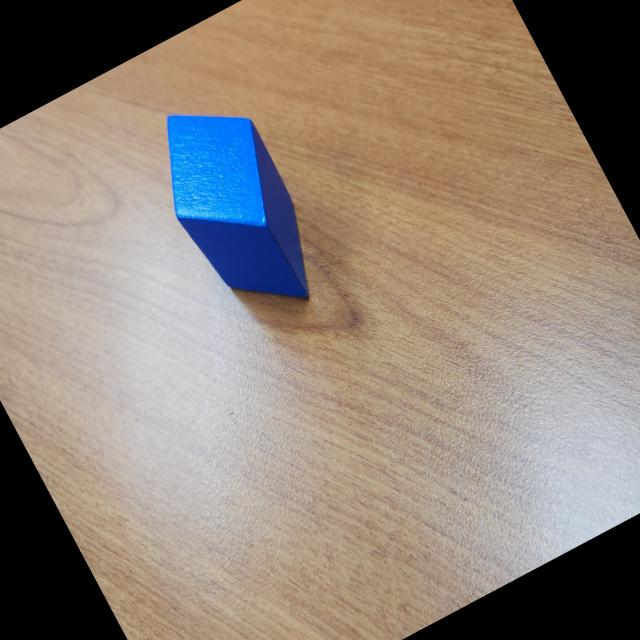blue: (132, 82, 338, 336)
